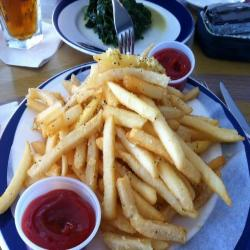fries: (21, 62, 228, 195)
ketchup: (14, 176, 103, 250), (141, 38, 206, 84)
